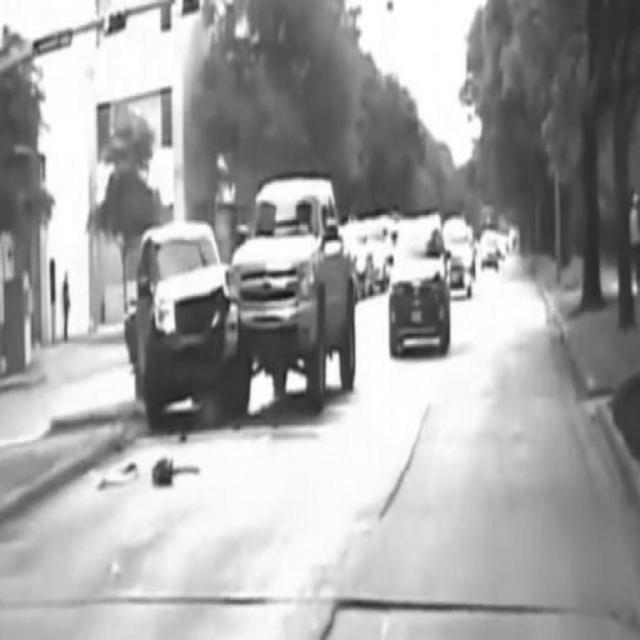accident: (128, 174, 355, 420)
vehicle: (385, 214, 456, 358)
